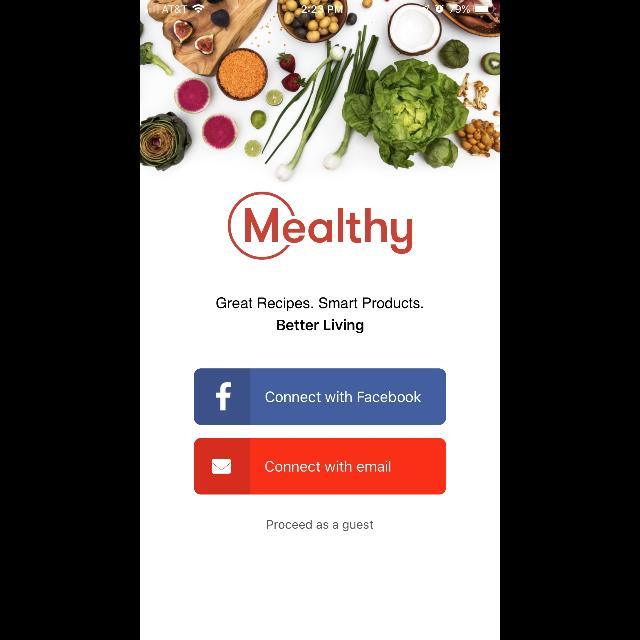image: (140, 1, 500, 183), (228, 192, 412, 260)
text: (217, 297, 423, 333), (267, 520, 373, 532)
textbutton: (194, 438, 446, 494), (194, 369, 446, 425)
uppertaskbar: (140, 0, 500, 14)
